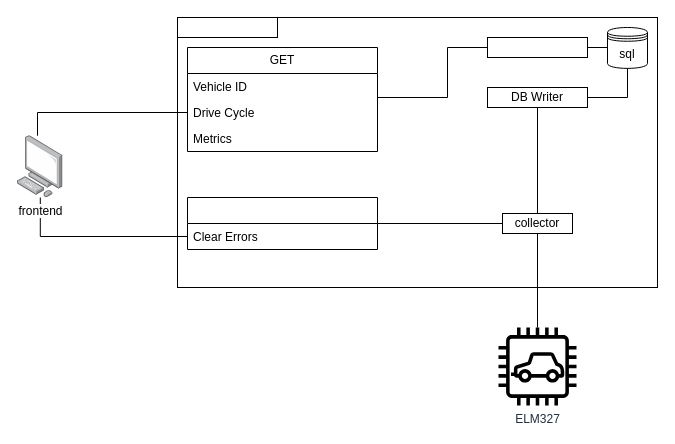
Some shapes in this 675 by 444 pixel diagram are drawn without their labels. The shapes that lost their labels are listed below. From the top down, each one's box as (x1, y1, x2, y2) in pixels, then its label:
(176, 16, 278, 38): backend
(486, 36, 588, 58): DB Reader
(186, 196, 378, 250): POST
